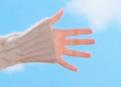down: (29, 9, 98, 72)
